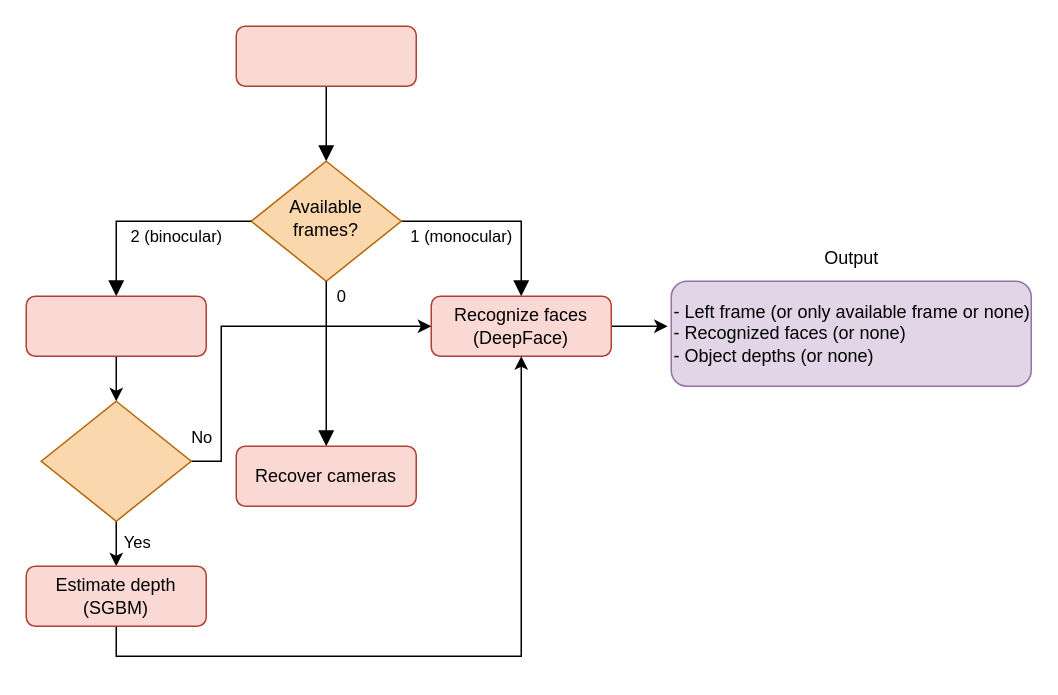
The diagram is 1058 pixels wide and 695 high, and some of its shapes have lost their labels. The shapes that lost their labels are listed below. From the top down, each one's centre as x and y in pixels, then its label:
the point at 325,55: Request frames with timeout
the point at 115,325: Detect objects (YOLOv8)
the point at 115,460: Available objects?
